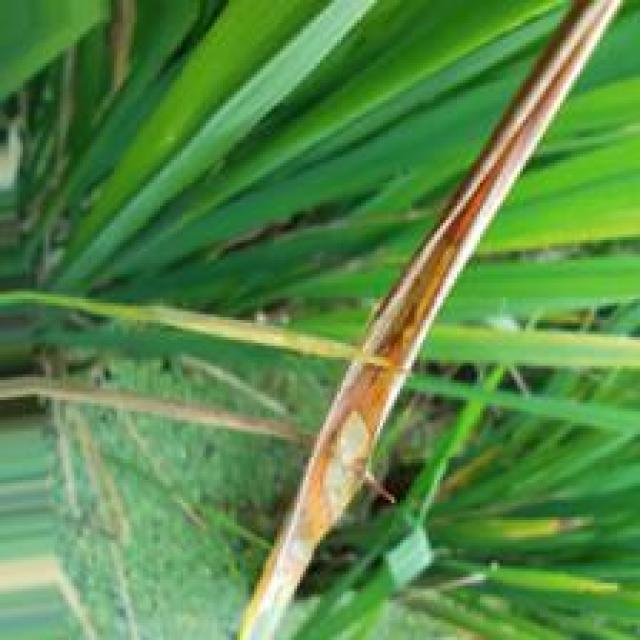Leaf_Scald: (365, 58, 579, 363), (289, 360, 408, 543)
